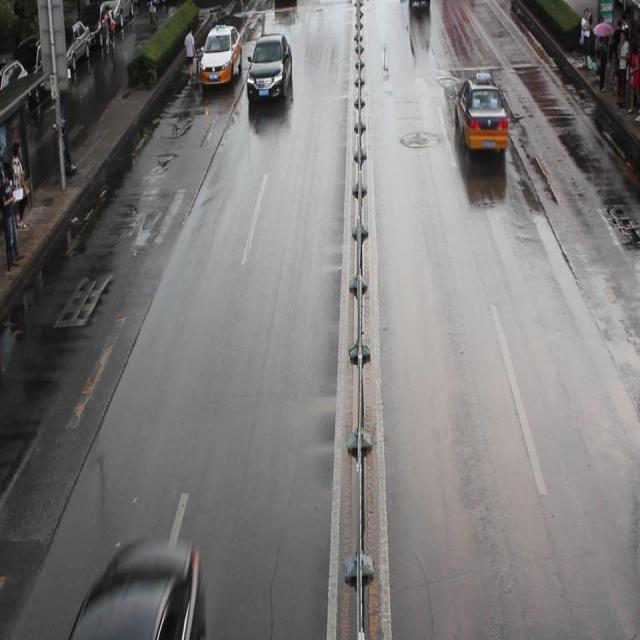car: (68, 533, 208, 640), (453, 74, 508, 152), (245, 35, 292, 105), (198, 23, 242, 86), (274, 1, 296, 8)
truck: (407, 1, 430, 10)
